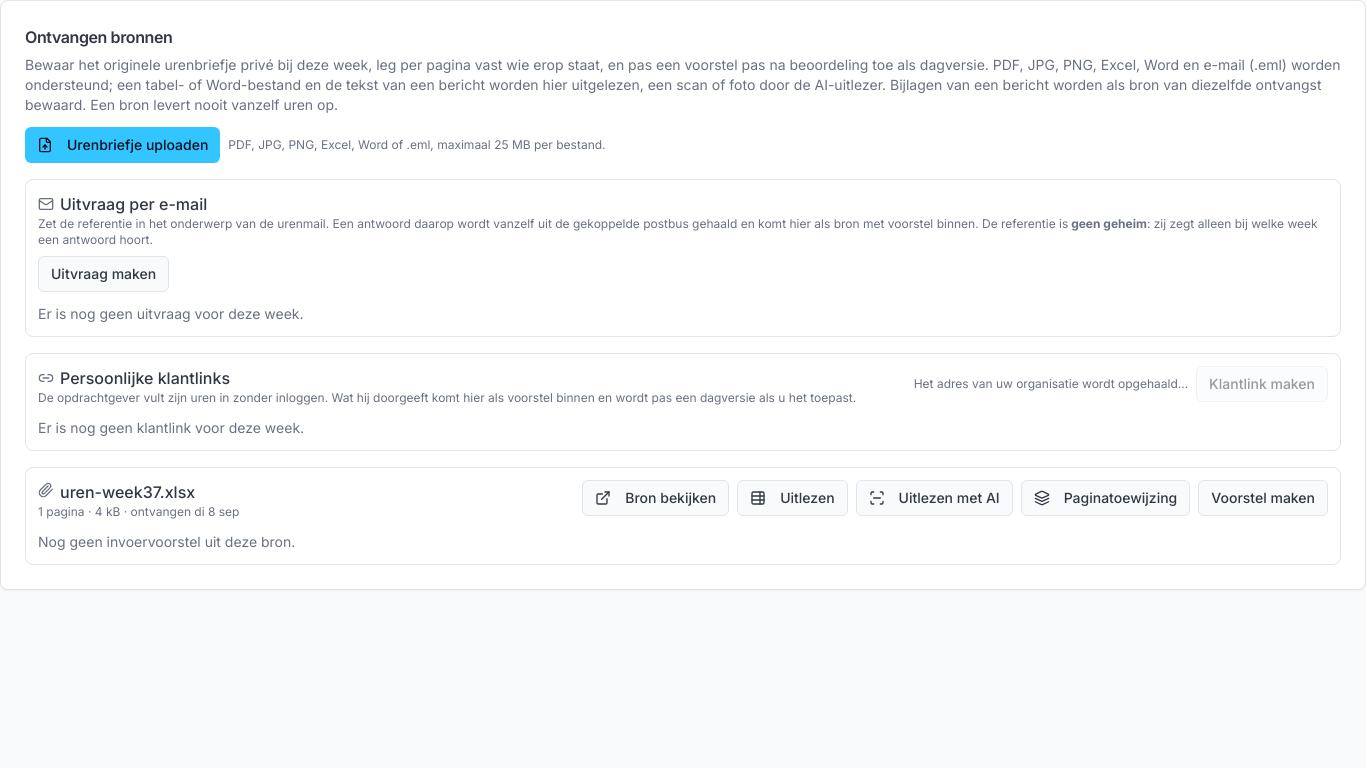
it: reading a delivered spreadsheet from the week screen › blocks an unreadable file with an explanation and records nothing
Click the button "Uitlezen". click: coordinates (792, 498)
box: [737,480,848,516]
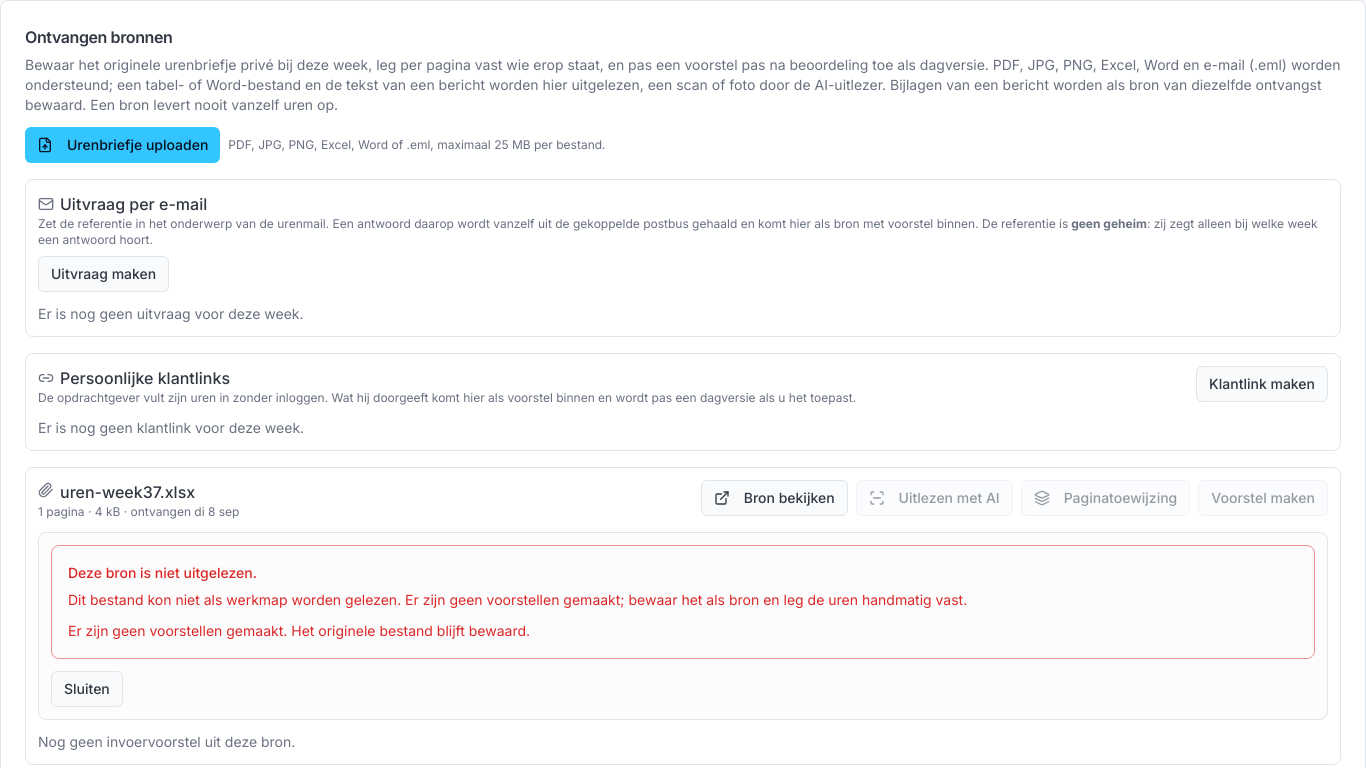
Result: the text "Deze bron is niet uitgelezen." is shown at [68,564,257,581]
